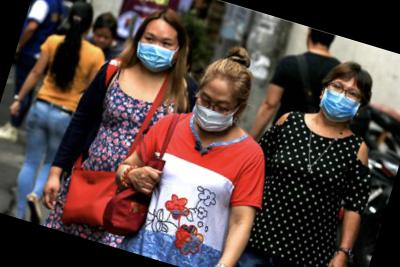with_mask: (188, 88, 242, 139), (132, 26, 184, 77), (317, 77, 367, 128)
without_mask: (90, 29, 114, 51)
